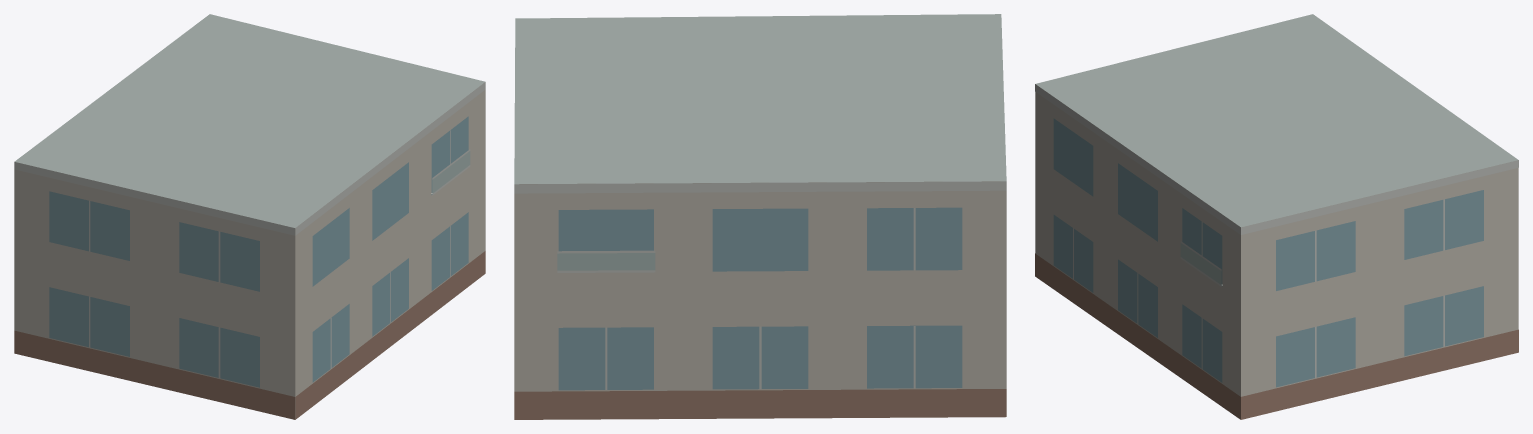
File: survey-upis-32530640.glb
The picture shows the model from 3 angles, left to right: view 1: azimuth 30°, elevation 25°; view 2: azimuth 150°, elevation 25°; view 3: azimuth 270°, elevation 25°; orthographic projection. The views are drawn at different scales.
Visible parts, largest first — view 1: survey-upis-32530640.tmp; view 2: survey-upis-32530640.tmp; view 3: survey-upis-32530640.tmp.
Boxes of the visible parts, x1,y1,x2,y2 form: survey-upis-32530640.tmp: (14,14,485,419); survey-upis-32530640.tmp: (514,14,1006,419); survey-upis-32530640.tmp: (1035,14,1518,419).
Size of the model in its own units: 14.51 by 6.1 by 13.9.
